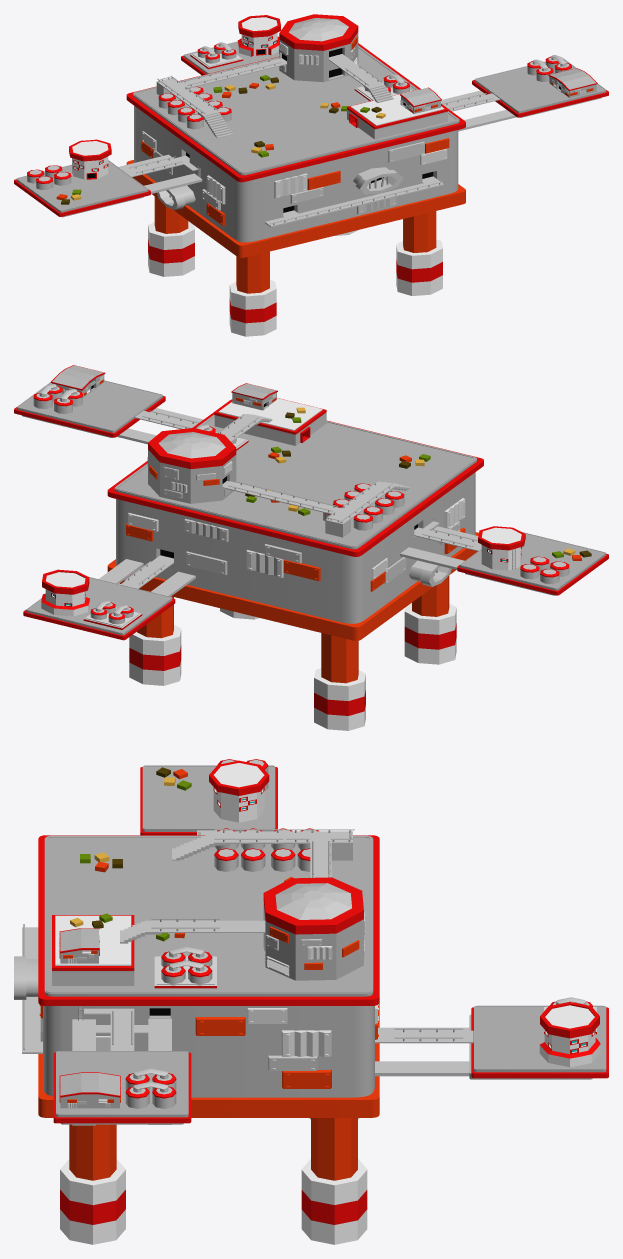
File: oilrig.glb
3 views of the same model, one above another, from view 1: azimuth 30°, elevation 25°; view 2: azimuth 150°, elevation 25°; view 3: azimuth 270°, elevation 25° (orthographic). The views are drawn at different scales.
Visible parts, largest first — view 1: Box006, Box001, Cylinder034, Box002, Cylinder045, Box003, Box008, Box019, Box024, Object044_Metal_0, Cylinder081, Object001_Metal_0 (+15 smaller); view 2: Box001, Box006, Cylinder034, Cylinder045, Box002, Box003, Box019, Box024, Box015, Box008, Object044_Metal_0, Cylinder081 (+20 smaller); view 3: Box006, Box001, Cylinder034, Cylinder045, Box003, Box015, Box008, Box019, Box002, Box024, Cylinder081, Object044_Metal_0 (+23 smaller).
Boxes of the visible parts, box(x1,y1,x2,y2) form: Box006: box(133, 45, 459, 175); Box001: box(134, 106, 458, 242); Cylinder034: box(148, 196, 442, 336); Box002: box(126, 160, 465, 257); Cylinder045: box(279, 14, 358, 82); Box003: box(126, 43, 465, 182); Box008: box(16, 160, 148, 212); Box019: box(474, 58, 606, 113); Box024: box(347, 89, 447, 139); Object044_Metal_0: box(156, 58, 286, 138); Cylinder081: box(237, 15, 280, 56); Object001_Metal_0: box(265, 176, 443, 227); Box001: box(116, 472, 475, 623); Box006: box(114, 415, 476, 549); Cylinder034: box(129, 575, 456, 730); Cylinder045: box(147, 428, 236, 503); Box002: box(107, 532, 478, 640); Box003: box(107, 399, 483, 556); Box019: box(16, 380, 162, 432); Box024: box(214, 398, 326, 445); Box015: box(26, 576, 172, 635); Box008: box(460, 532, 606, 590); Object044_Metal_0: box(222, 481, 410, 537); Cylinder081: box(41, 569, 89, 616); Box006: box(44, 835, 373, 996); Box001: box(43, 1006, 374, 1097); Cylinder034: box(60, 1118, 367, 1244); Cylinder045: box(263, 877, 365, 980); Box003: box(38, 835, 379, 1005); Box015: box(474, 1005, 606, 1072); Box008: box(142, 765, 275, 831); Box019: box(56, 1051, 188, 1117); Box002: box(38, 1003, 379, 1117); Box024: box(52, 915, 134, 985); Cylinder081: box(539, 1002, 600, 1067); Object044_Metal_0: box(172, 831, 352, 877).
Size of the model in its own units: 4.57 by 1.79 by 3.06.
